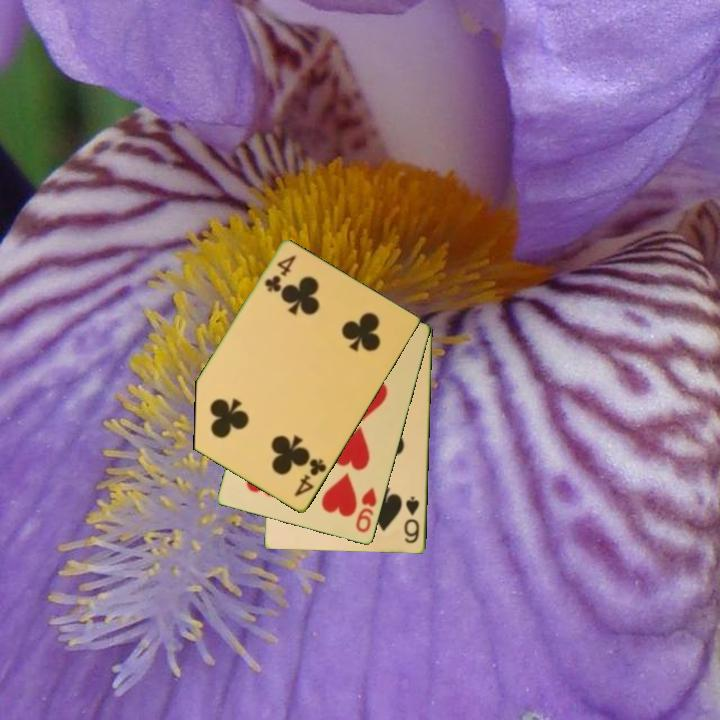4c: (291, 455, 330, 500), (261, 252, 299, 295)
6s: (401, 493, 422, 546)
9h: (352, 484, 380, 536)
